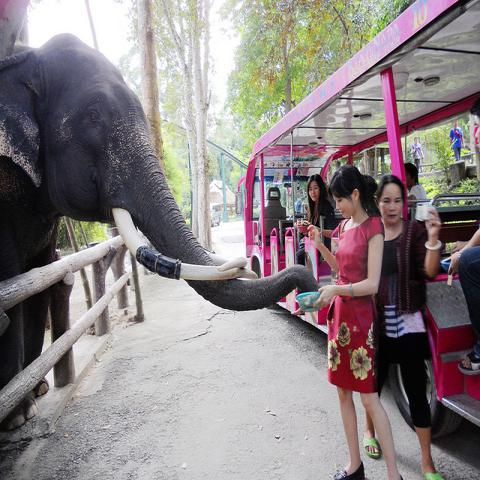bus: (237, 3, 479, 437)
